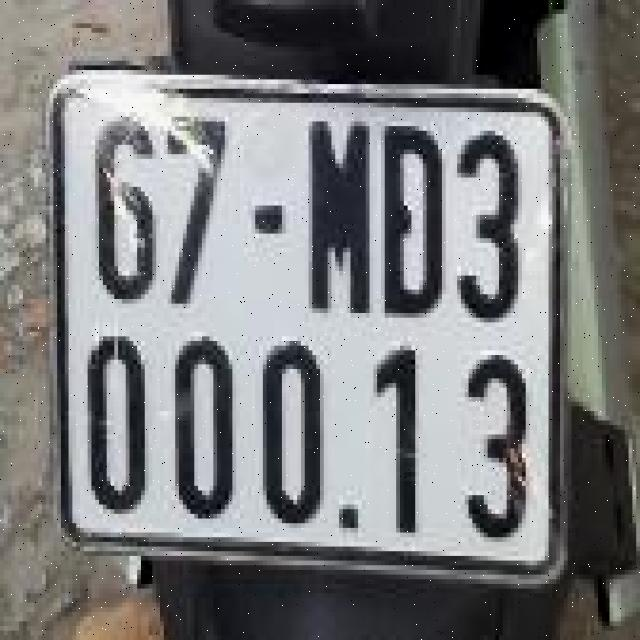0: (69, 325, 156, 530), (166, 336, 246, 528), (259, 334, 331, 535)
1: (366, 334, 434, 540)
3: (457, 114, 541, 338), (457, 341, 537, 547)
6: (86, 114, 162, 306)
7: (168, 110, 236, 310)
D: (377, 112, 457, 336)
M: (288, 105, 375, 325)
